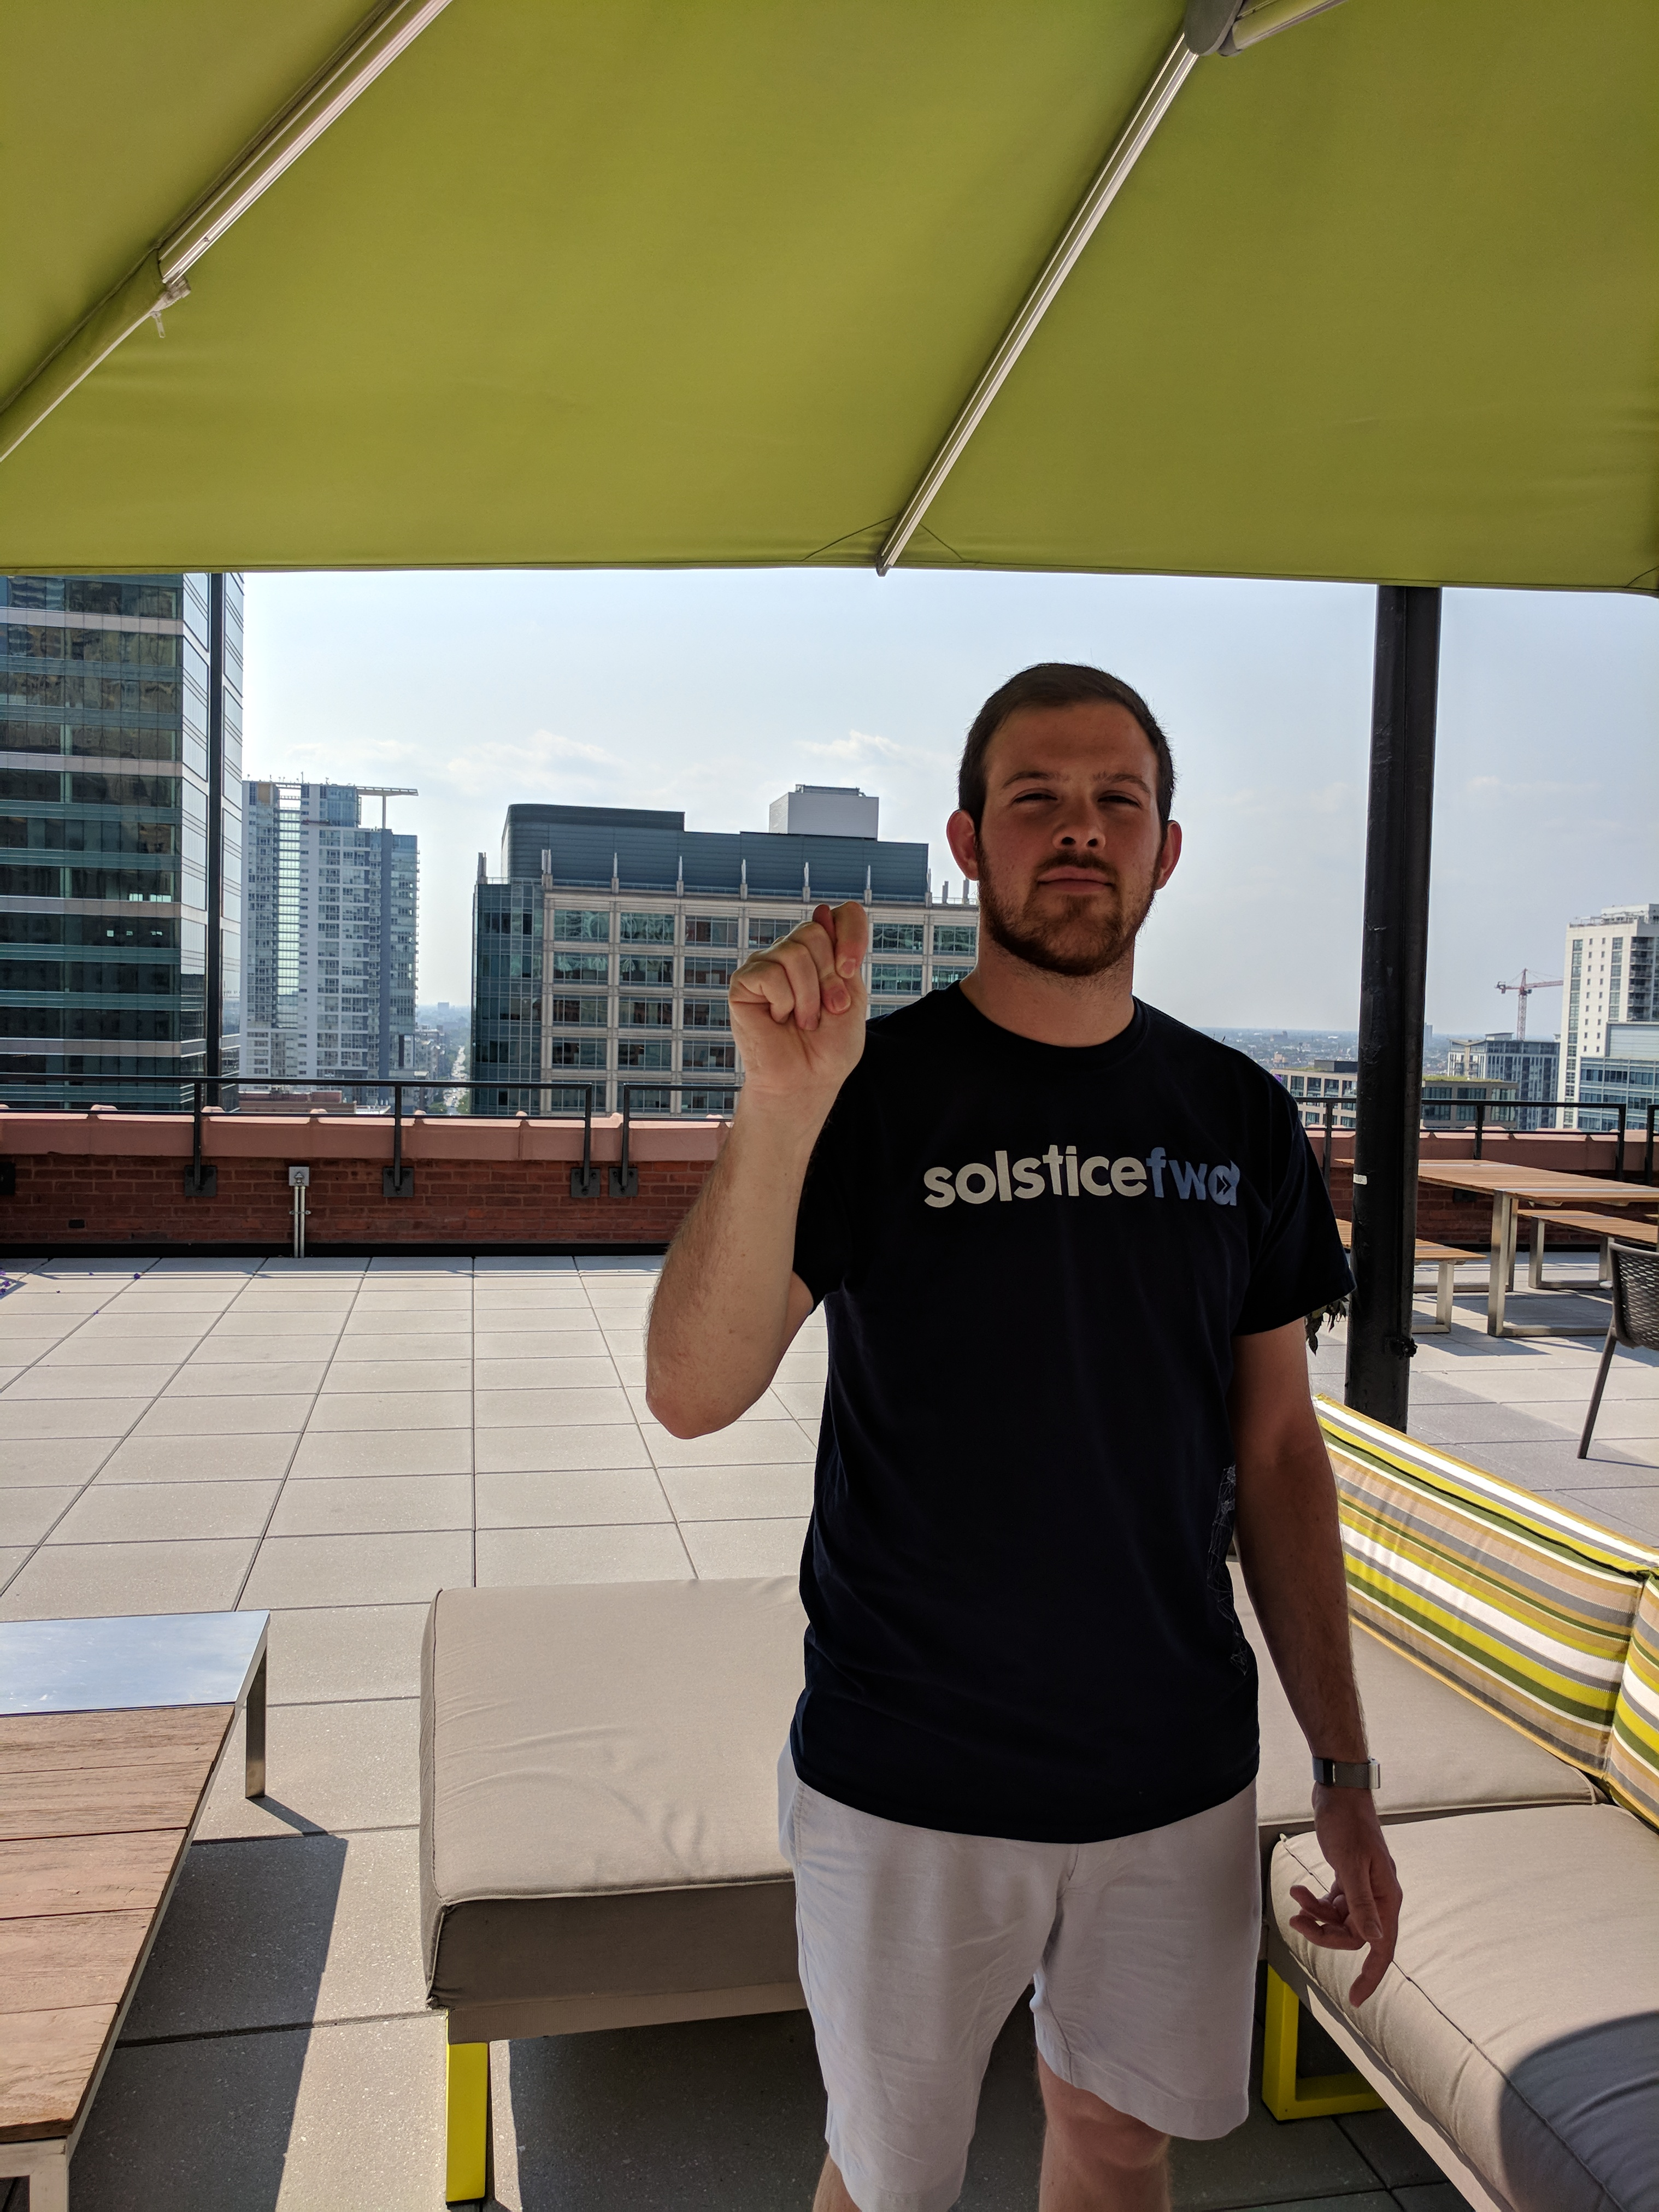t: (732, 888, 871, 1104)
